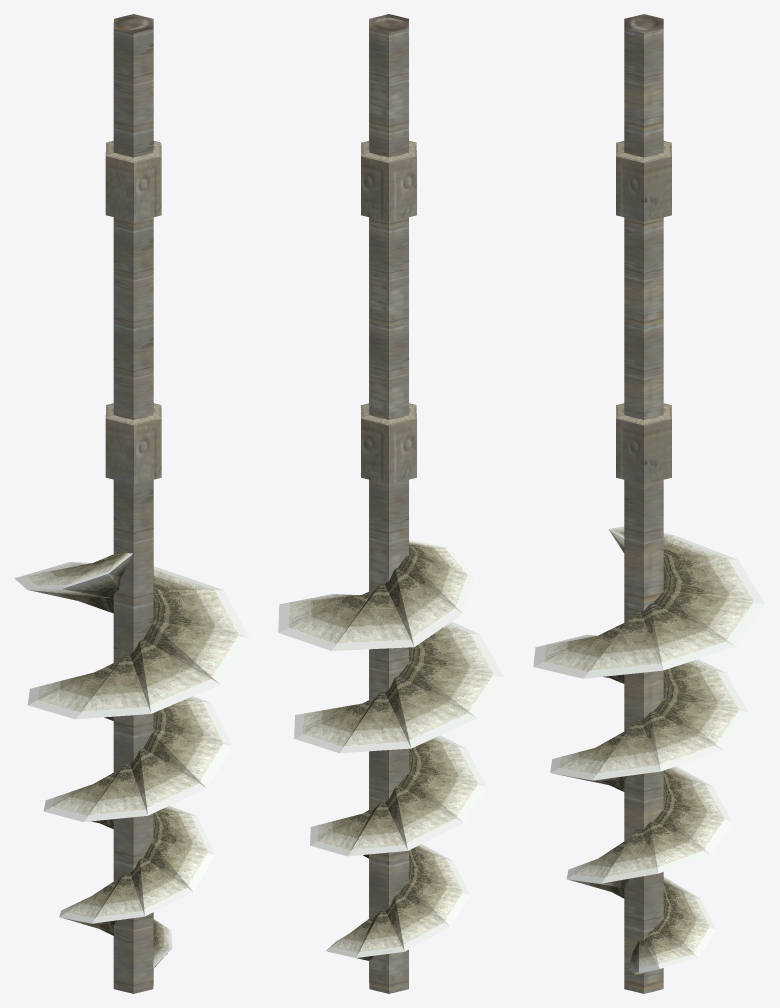
The model's file is C2SMEXTWRD.obj.
3 views of the same model, side by side, from view 1: azimuth 30°, elevation 25°; view 2: azimuth 150°, elevation 25°; view 3: azimuth 270°, elevation 25° (orthographic).
Visible parts, largest first — view 1: Node 0; view 2: Node 0; view 3: Node 0.
Boxes of the visible parts, x1,y1,x2,y2 form: Node 0: (14,14,249,993); Node 0: (278,14,504,993); Node 0: (533,14,765,993).
Bounding box in the file's own units: 8.68 × 40.38 × 8.85.
3 materials, 3 textured.
